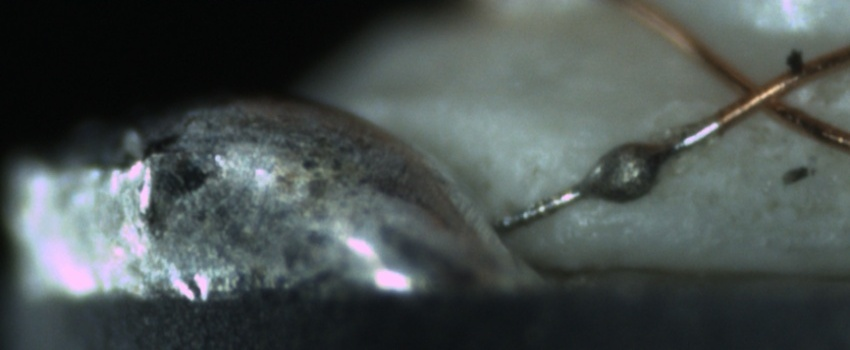CL: (717, 58, 804, 125)
DL: (666, 80, 850, 120)
TB: (582, 136, 669, 215)
TS: (496, 118, 721, 228)
TTCW: (492, 93, 762, 234)
